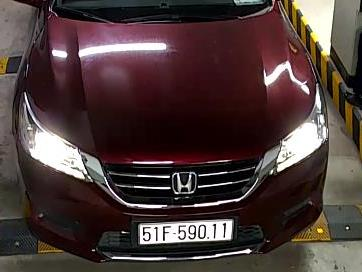car: (138, 219, 234, 244)
